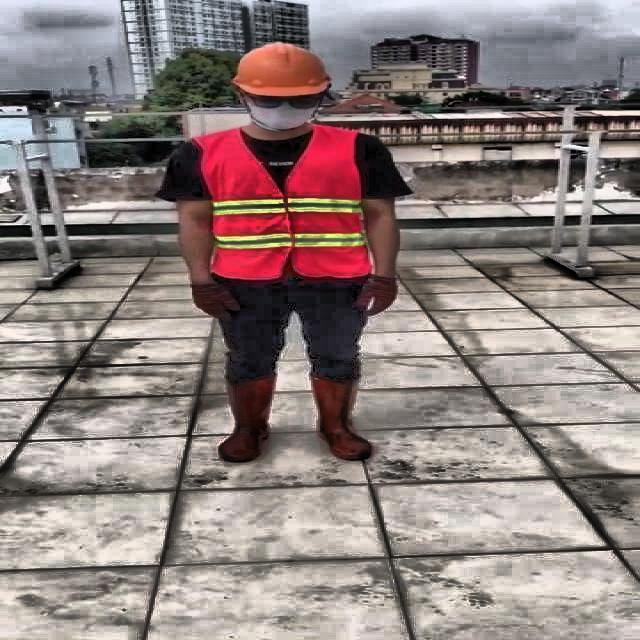safety_helmet: (230, 39, 337, 99)
safety_jacket: (201, 126, 371, 278)
